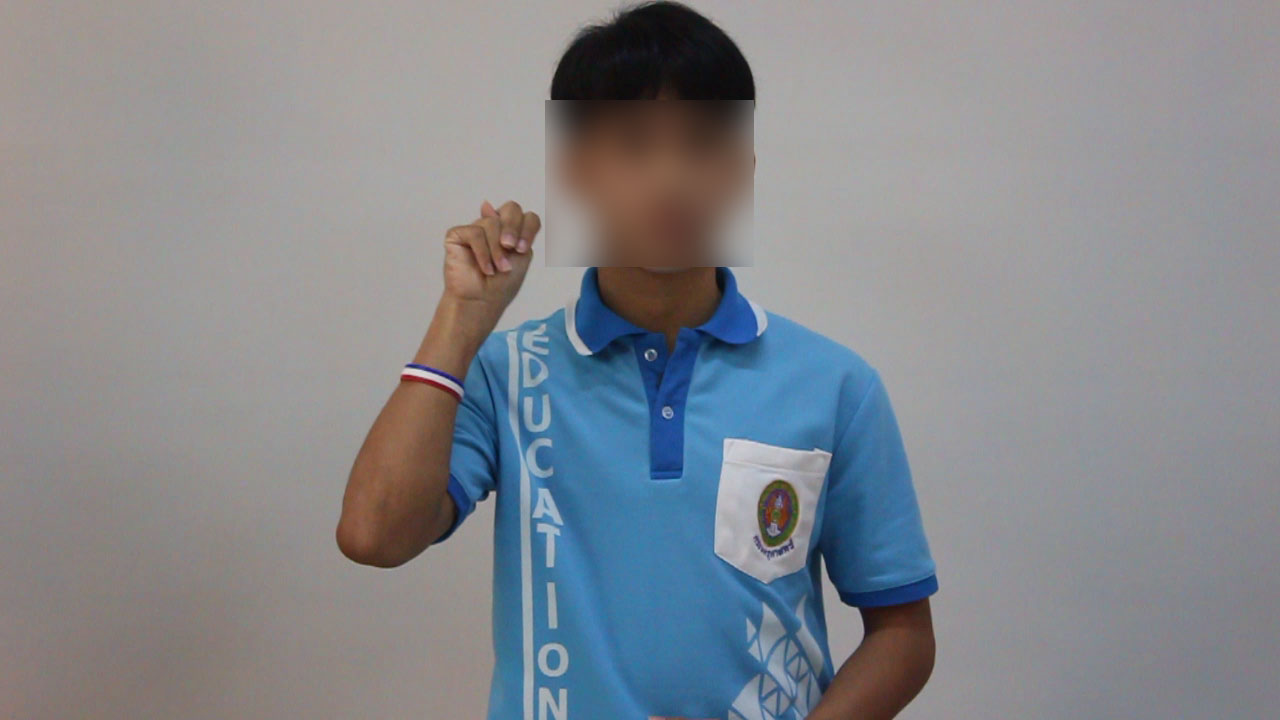nor: (419, 190, 555, 316)
